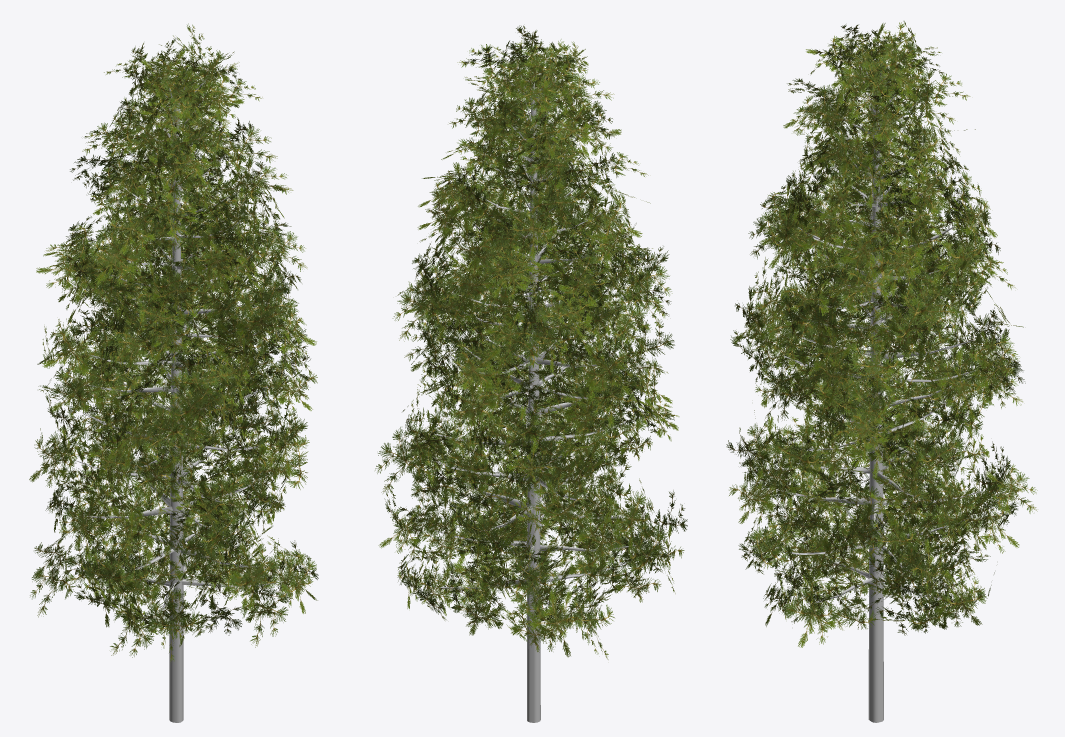
Rendered from Scots_Pine_Model_0.obj.
3 renders of one model, left to right at view 1: azimuth 30°, elevation 25°; view 2: azimuth 150°, elevation 25°; view 3: azimuth 270°, elevation 25°, orthographic. The views are drawn at different scales.
Visible parts, largest first — view 1: Foliage__leafcard, Bark; view 2: Foliage__leafcard, Bark; view 3: Foliage__leafcard, Bark.
Part boxes in pixels (x1,y1,x2,y2): Foliage__leafcard: [29, 23, 318, 661]; Bark: [74, 63, 277, 722]; Foliage__leafcard: [375, 25, 687, 659]; Bark: [431, 65, 635, 722]; Foliage__leafcard: [726, 21, 1037, 647]; Bark: [771, 51, 982, 722].
Bounding box in the file's own units: 13.26 × 32 × 13.55.
